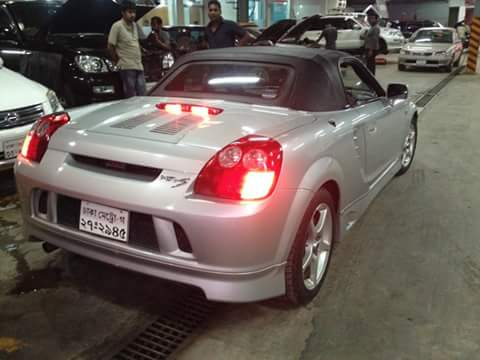registration_plate: (79, 198, 128, 242)
